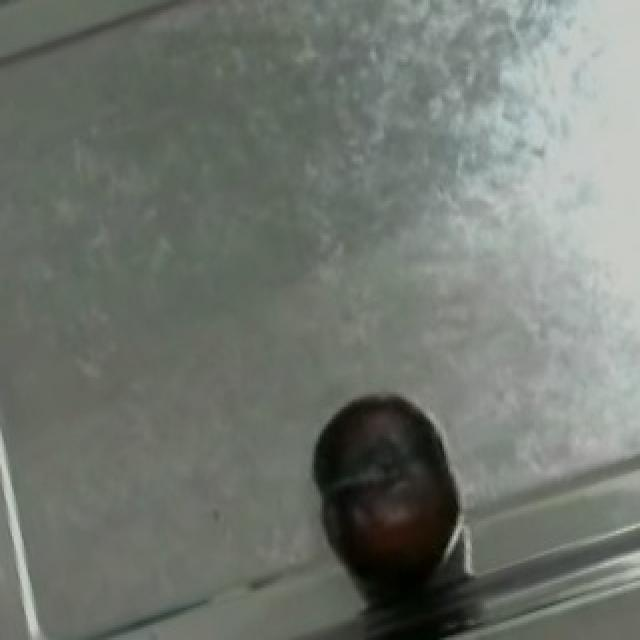Fruit: (318, 414, 482, 610)
